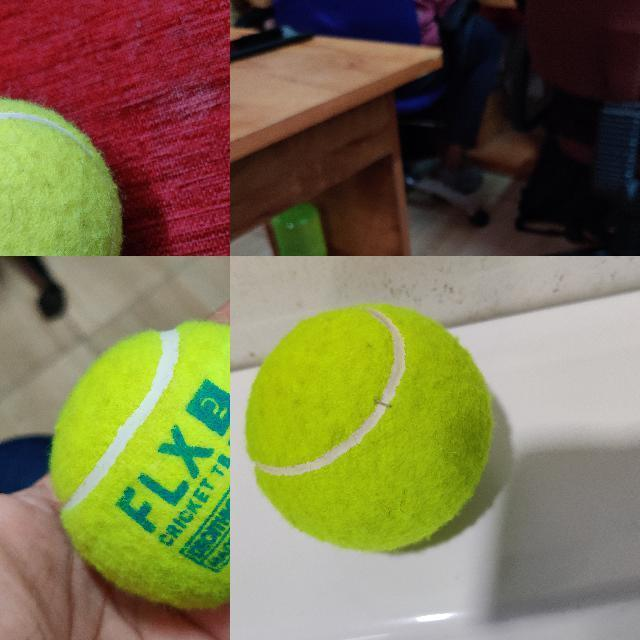tennis-ball: (243, 302, 494, 553), (50, 325, 229, 608), (0, 95, 124, 255)
